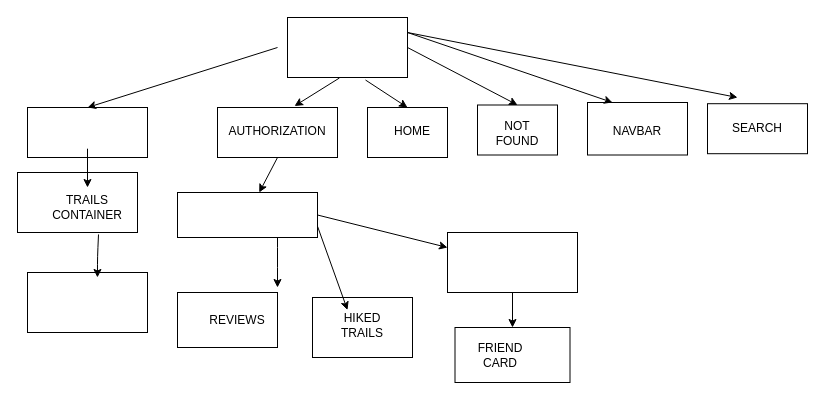
This 825x400 diagram has some shape labels left out. Here are the shapes that lost their labels. From the top down, the centre of each, then its label:
At point 347,47: "APP".
At point 87,132: "LOCATIONS".
At point 247,215: "ADVENTURER(USER)".
At point 512,262: "FRIENDS CONTAINER".
At point 87,302: "TRAILS CARD".
